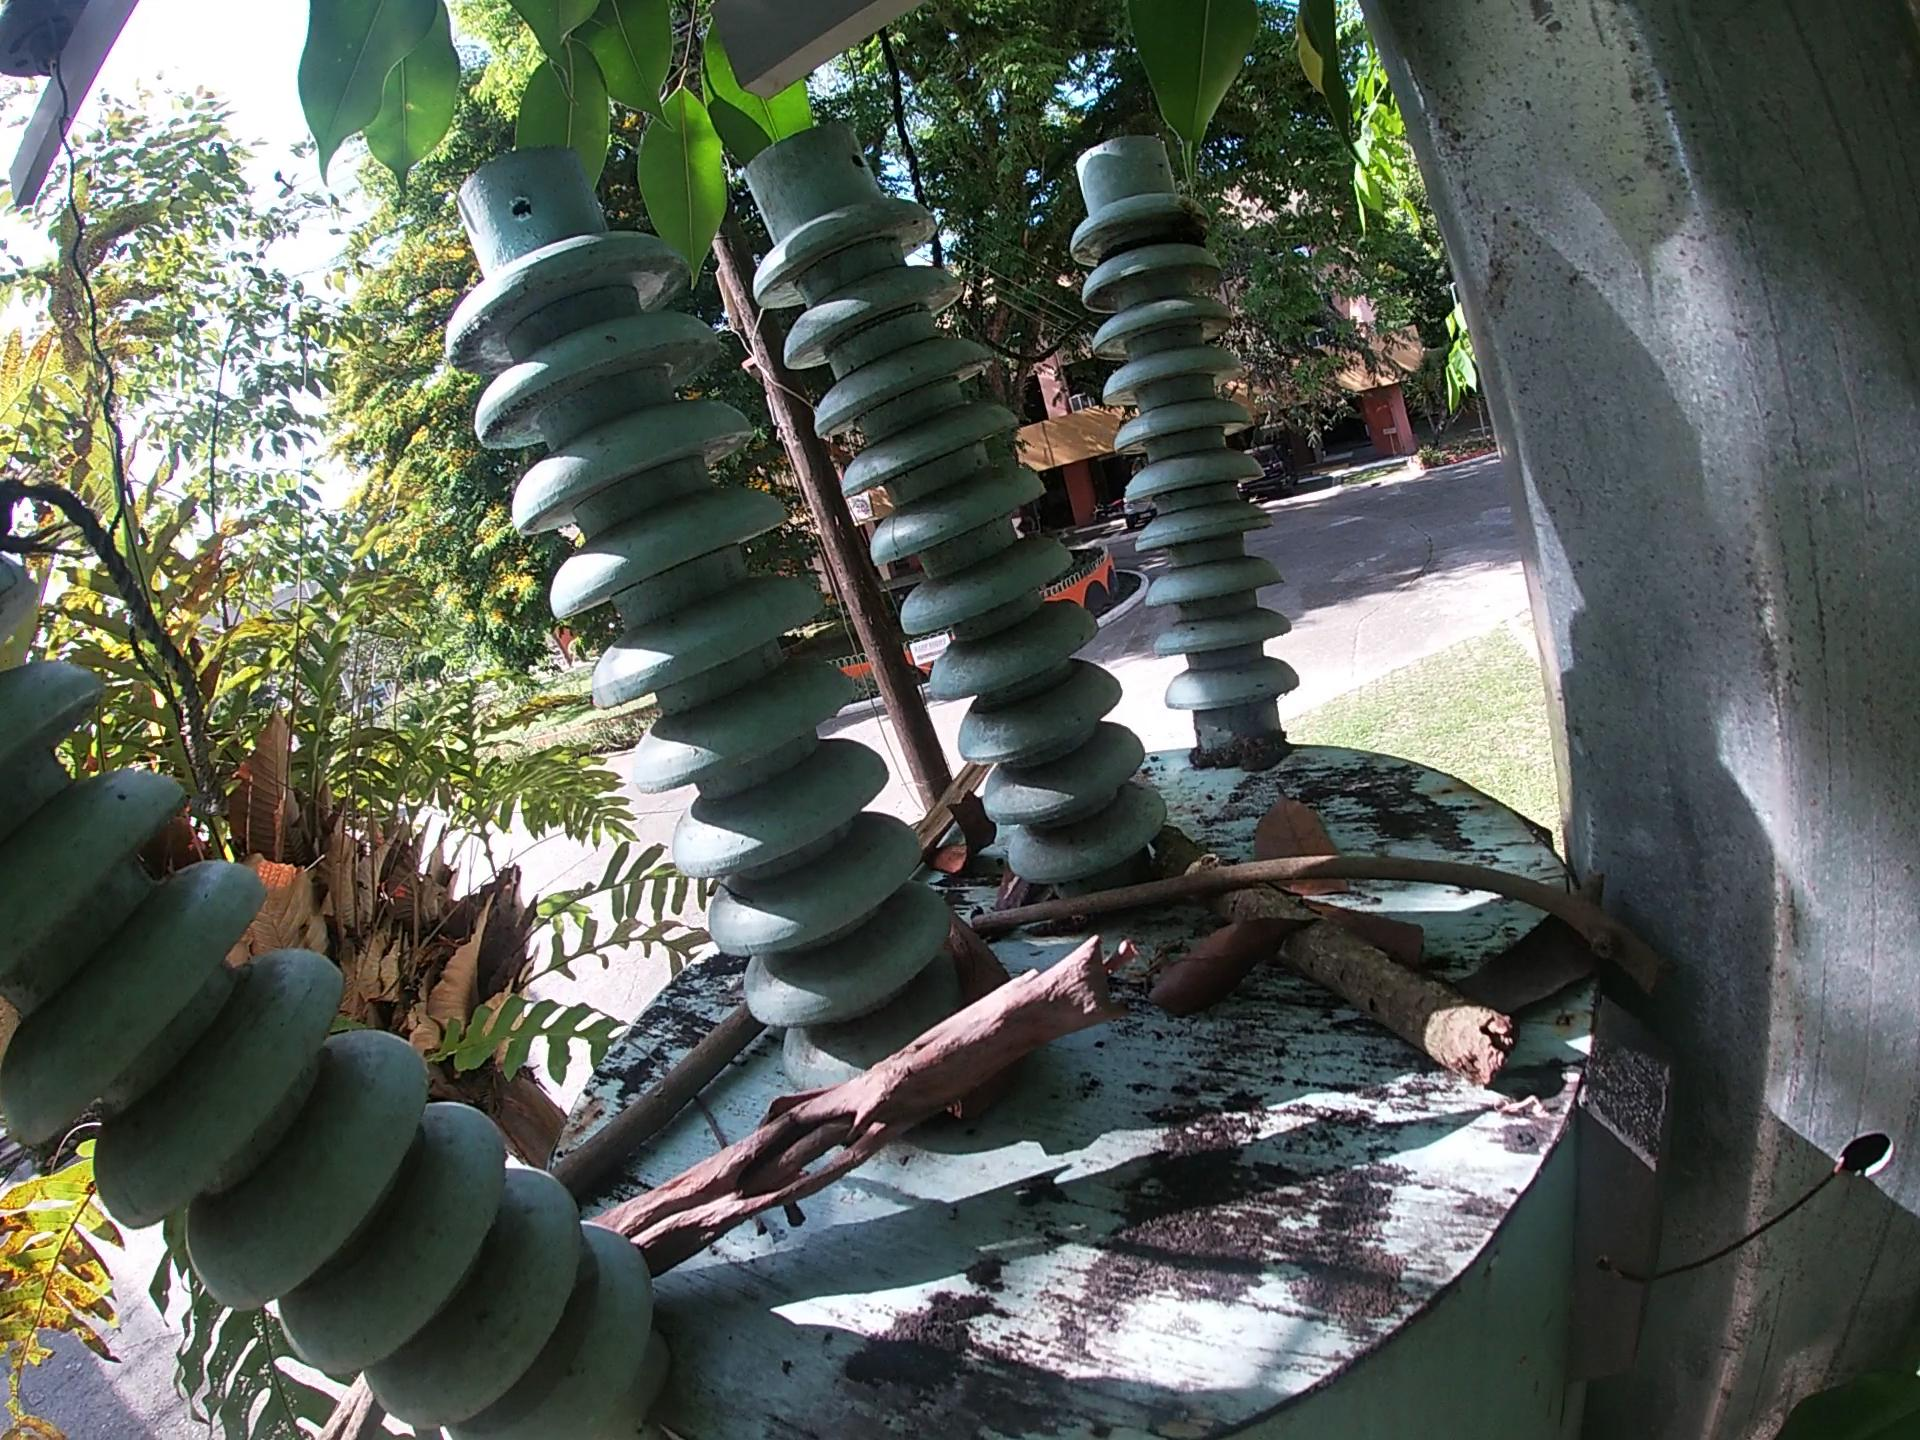leaf: (1442, 865, 1615, 1023), (1143, 905, 1330, 1024), (1250, 773, 1373, 902), (1306, 891, 1436, 970)
mahogany fruit: (928, 895, 1043, 1133), (918, 787, 1002, 876)
tree branch: (588, 933, 1143, 1283), (960, 844, 1675, 1004), (1149, 818, 1525, 1095), (552, 992, 774, 1215)
